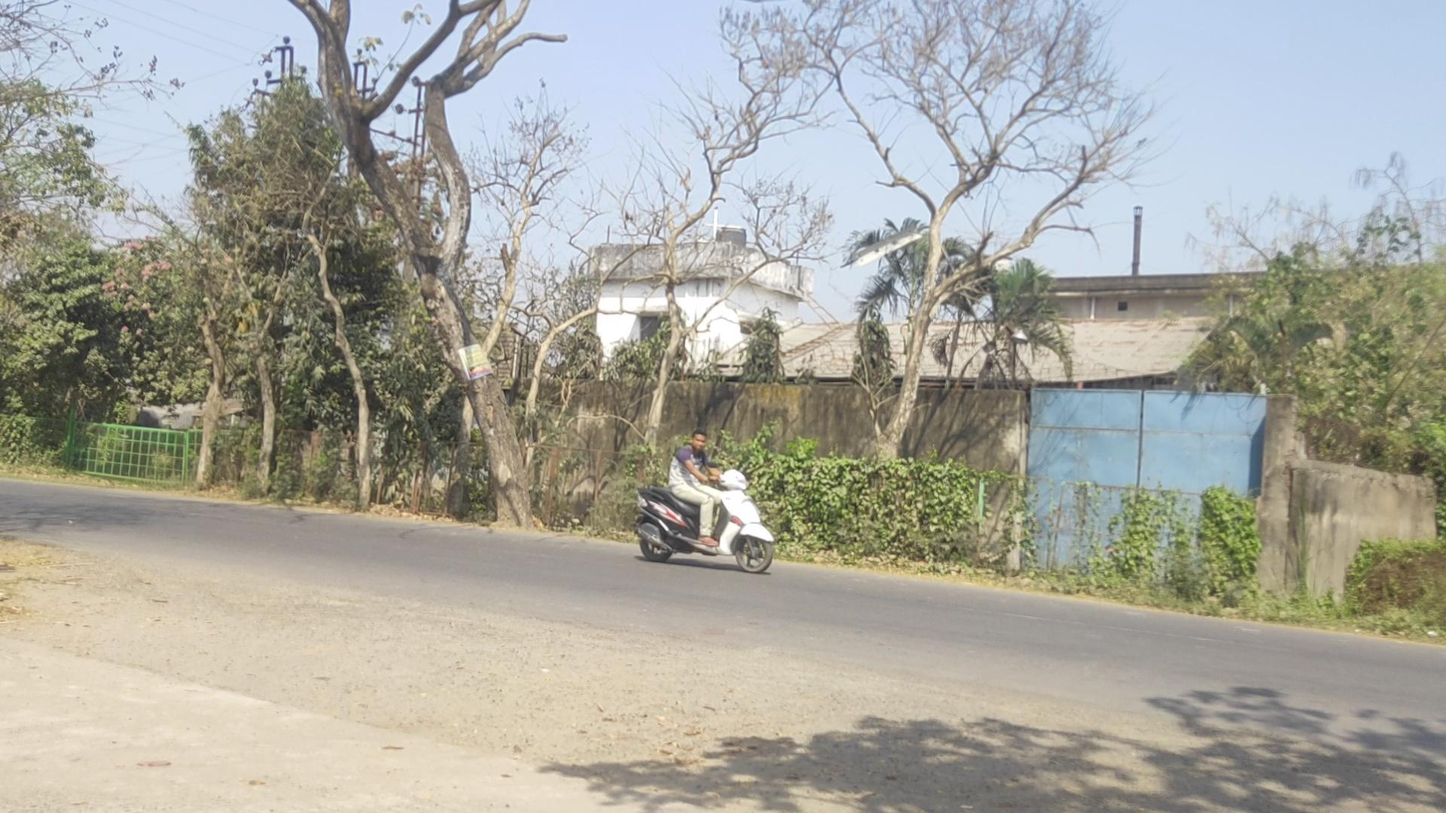bike: (635, 430, 773, 573)
